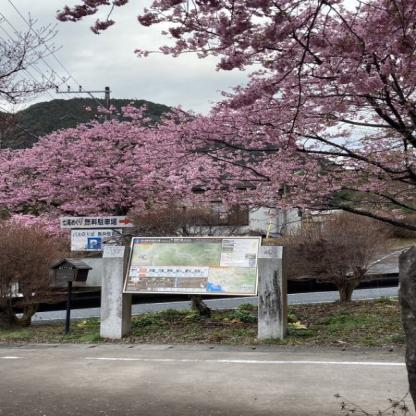KawazuSakura: (0, 100, 416, 236), (121, 0, 416, 137)
